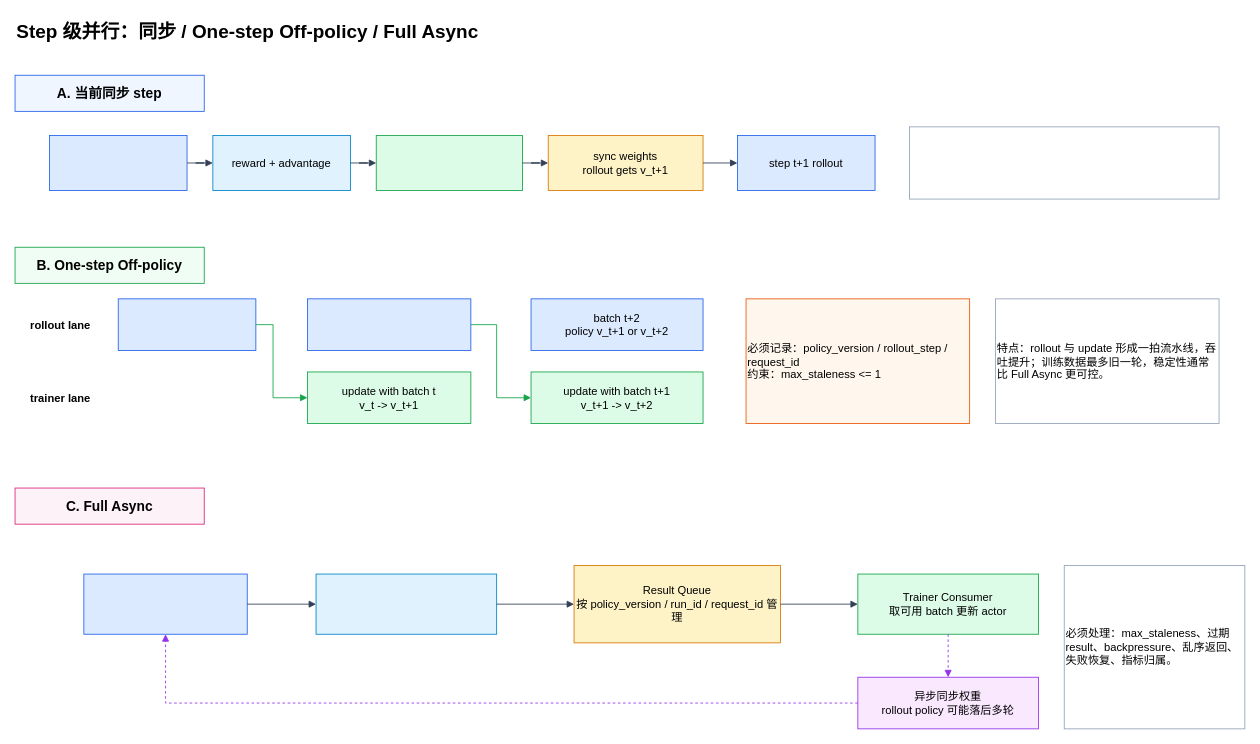
Image size: 1260x744. Some labels were removed from this diagram. Here are the shapes that lost their labels. From the top down, the centre of each, then its label:
(118,162): step t rollout policy v_t
(448,162): actor update v_t -> v_t+1
(1064,162): 特点：语义最清楚；但 rollout、训练更新、权重同步串行，外部 rollout 慢时 GPU/Worker 容易等待。
(186,324): batch t policy v_t
(389,324): batch t+1 policy v_t or v_t+1
(165,603): Rollout Producers 持续发 EpisodeRequest
(406,603): Server / Worker 异步计算 rollout + reward
